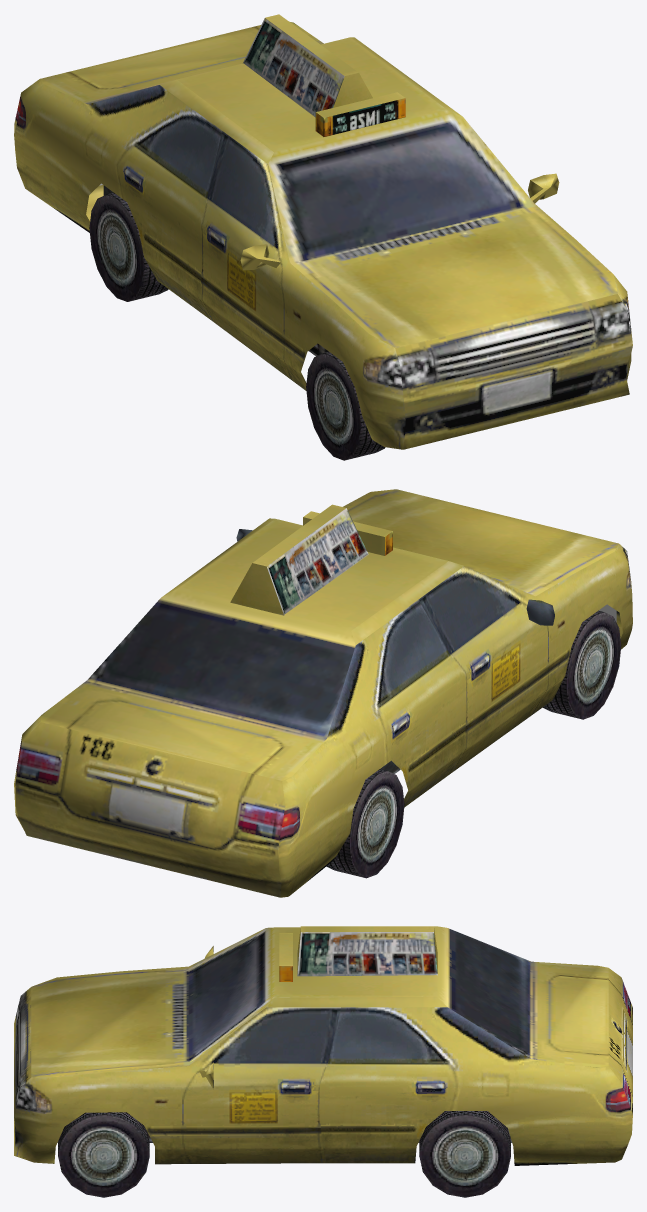
The model's file is taxi_01.fbx.
3 views of the same model, one above another, from view 1: azimuth 30°, elevation 25°; view 2: azimuth 150°, elevation 25°; view 3: azimuth 270°, elevation 25° (orthographic). The views are drawn at different scales.
Visible parts, largest first — view 1: mesh_10, mesh_9, mesh_7, mesh_2, mesh_3, mesh_8; view 2: mesh_10, mesh_9, mesh_7, mesh_2, mesh_3, mesh_8; view 3: mesh_9, mesh_10, mesh_7, mesh_4, mesh_6, mesh_8.
Part boxes in pixels (x1=…): mesh_10: x1=40, y1=21, x2=632, y2=449; mesh_9: x1=14, y1=79, x2=632, y2=449; mesh_7: x1=243, y1=14, x2=372, y2=117; mesh_2: x1=89, y1=192, x2=168, y2=301; mesh_3: x1=306, y1=351, x2=385, y2=460; mesh_8: x1=315, y1=92, x2=405, y2=136; mesh_10: x1=15, y1=489, x2=622, y2=897; mesh_9: x1=14, y1=529, x2=632, y2=897; mesh_7: x1=230, y1=504, x2=368, y2=615; mesh_2: x1=326, y1=769, x2=404, y2=878; mesh_3: x1=543, y1=610, x2=621, y2=719; mesh_8: x1=303, y1=511, x2=392, y2=555; mesh_9: x1=14, y1=947, x2=632, y2=1165; mesh_10: x1=14, y1=926, x2=632, y2=1153; mesh_7: x1=297, y1=926, x2=437, y2=976; mesh_4: x1=419, y1=1111, x2=510, y2=1197; mesh_6: x1=58, y1=1112, x2=149, y2=1197; mesh_8: x1=279, y1=933, x2=292, y2=981.
Size of the model in its own units: 229 by 180 by 461.
